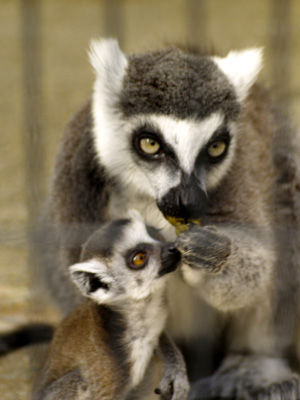cat: (39, 34, 299, 399), (32, 208, 191, 399)
